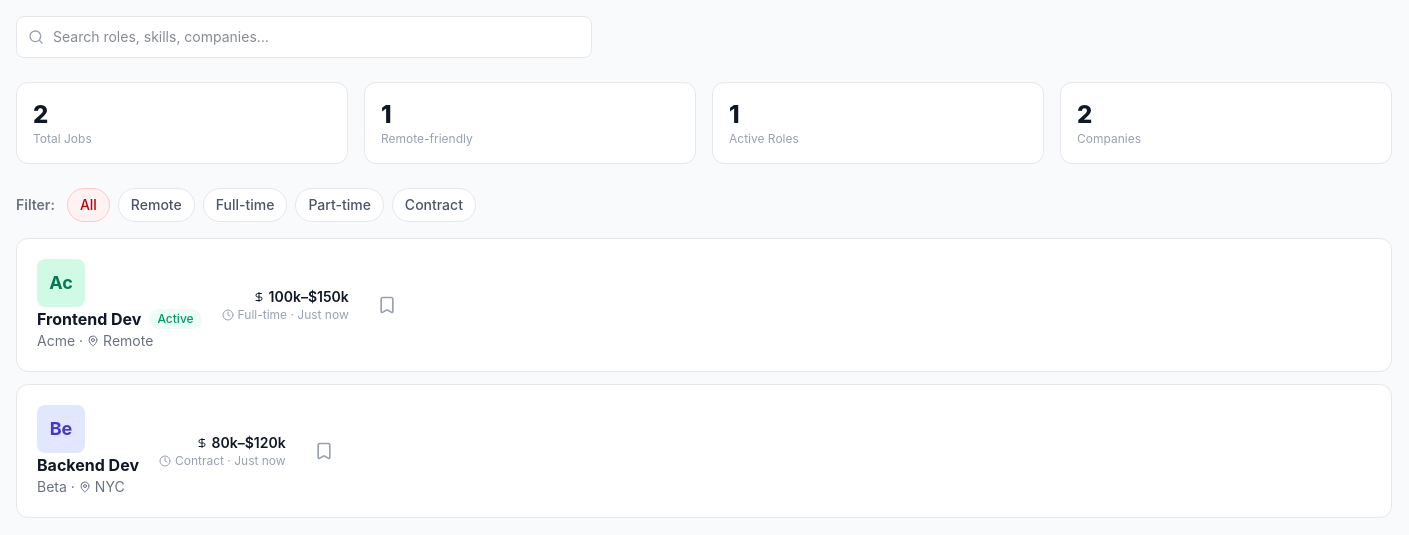
Test case: Jobs page › filters by search
Check: the heading "Frontend Dev" is shown, box [37,307,141,331]
Type "Backend" into the field with placeholder "Search roles, skills, companies…". click: (304, 37)
box: [16,16,592,58]
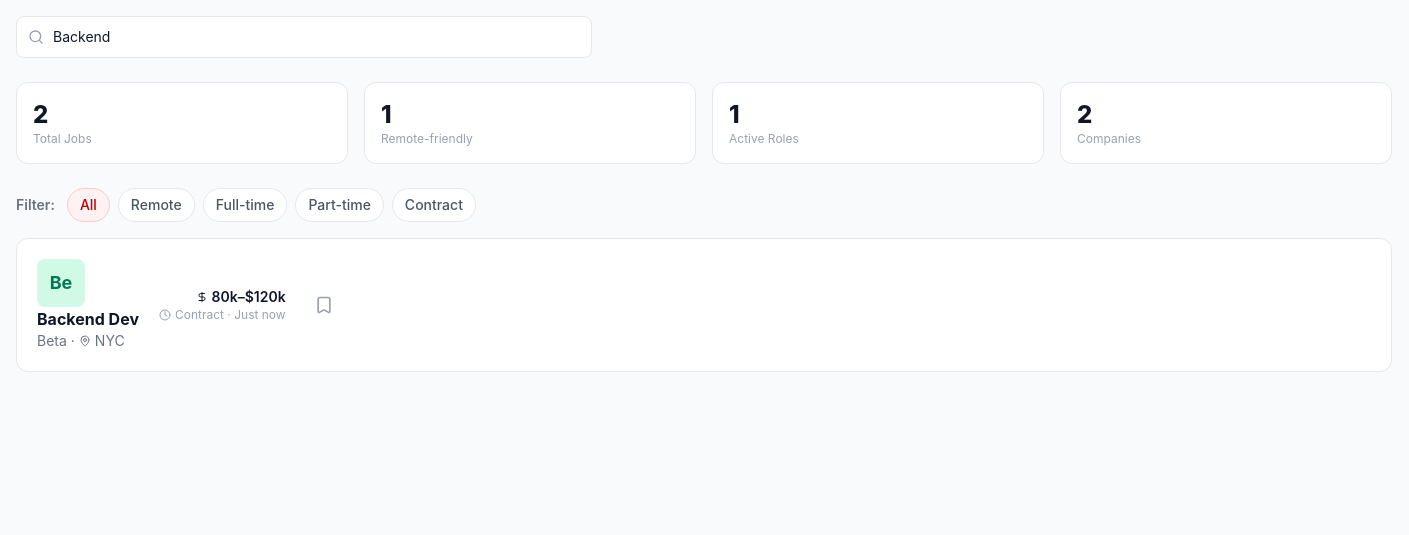
Check: the heading "Backend Dev" is shown, box [37,307,139,331]
Check: the link "Frontend Dev" is gone
